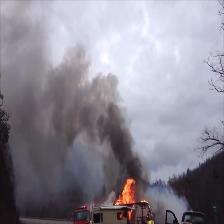fire: (115, 176, 144, 210)
smoke: (7, 2, 141, 178)
